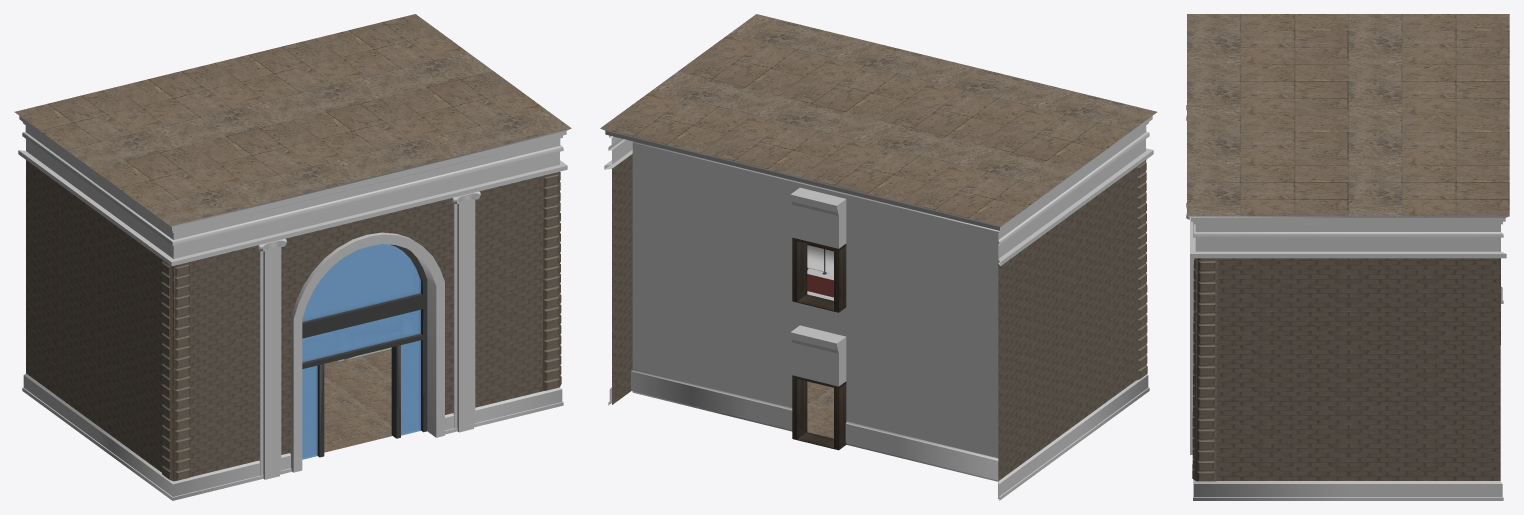
File: Royal_Hall_Enterance_1.FBX
The picture shows the model from 3 angles, left to right: view 1: azimuth 30°, elevation 25°; view 2: azimuth 150°, elevation 25°; view 3: azimuth 270°, elevation 25°; orthographic projection. The views are drawn at different scales.
Parts seen in each view (by area): view 1: Royal_Hall_Enterance_1; view 2: Royal_Hall_Enterance_1; view 3: Royal_Hall_Enterance_1.
Part boxes in pixels (box(x1,y1,x2,y2)): Royal_Hall_Enterance_1: box(14, 14, 571, 500); Royal_Hall_Enterance_1: box(600, 14, 1157, 500); Royal_Hall_Enterance_1: box(1186, 14, 1509, 500).
Size of the model in its own units: 18.09 by 11.98 by 12.22.
